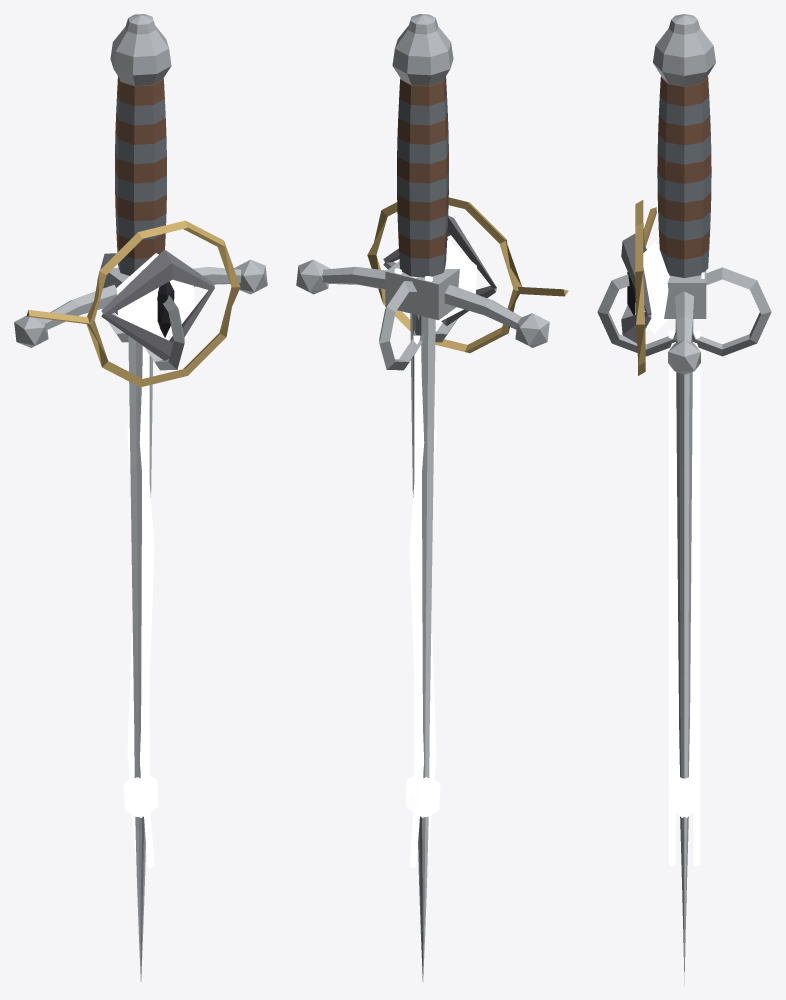
File: blade-reading-edge.glb
3 renders of one model, left to right at view 1: azimuth 30°, elevation 25°; view 2: azimuth 150°, elevation 25°; view 3: azimuth 270°, elevation 25°, orthographic.
Parts seen in each view (by area): view 1: blade-reading-edge, blink_eye, pulse_vein; view 2: blade-reading-edge, pulse_vein, blink_eye; view 3: blade-reading-edge, pulse_vein, blink_eye.
Part boxes in pixels (left/top/right/bottom): blade-reading-edge: left=14, top=14, right=267, bottom=981; blink_eye: left=101, top=249, right=214, bottom=360; pulse_vein: left=127, top=348, right=154, bottom=868; blade-reading-edge: left=296, top=14, right=568, bottom=981; pulse_vein: left=409, top=335, right=436, bottom=868; blink_eye: left=383, top=215, right=496, bottom=325; blade-reading-edge: left=597, top=14, right=771, bottom=985; pulse_vein: left=668, top=331, right=700, bottom=866; blink_eye: left=621, top=234, right=669, bottom=343.
Size of the model in its own units: 0.3328 by 1.22 by 0.1984.
